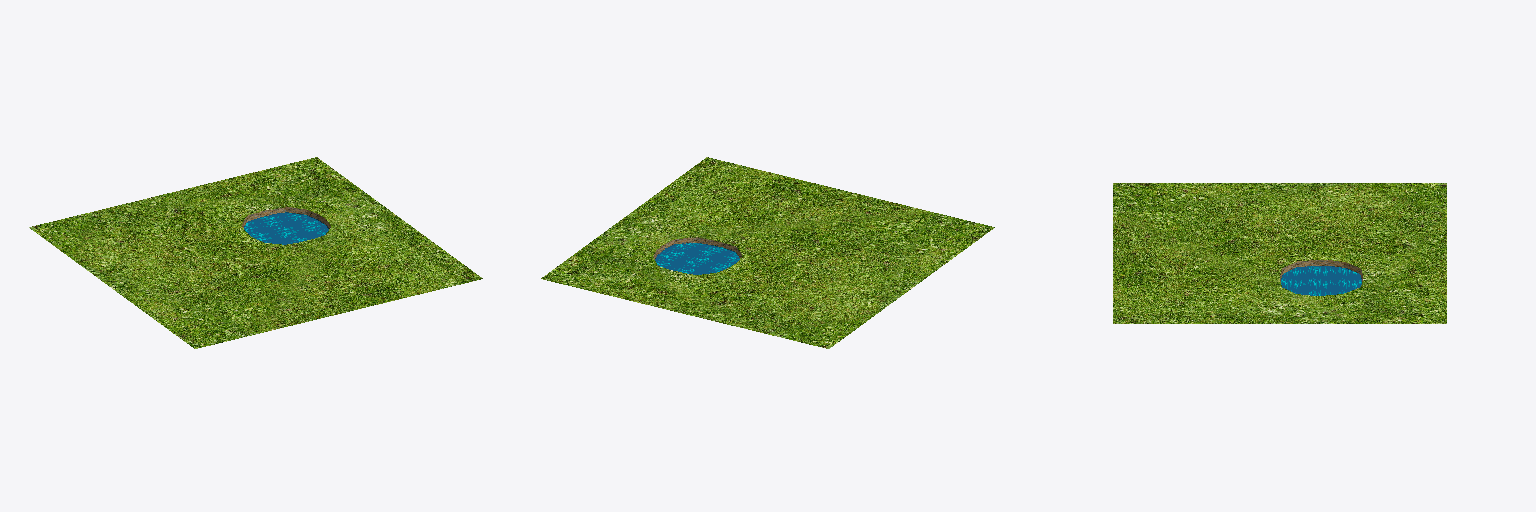
3 views of the same model, side by side, from view 1: azimuth 30°, elevation 25°; view 2: azimuth 150°, elevation 25°; view 3: azimuth 270°, elevation 25° (orthographic).
Parts seen in each view (by area): view 1: mesh01; view 2: mesh01; view 3: mesh01.
Part boxes in pixels (x1,y1,x2,y2): mesh01: (29,157,482,348); mesh01: (541,157,994,348); mesh01: (1113,183,1446,323).
Bounding box in the file's own units: 15992 × 302 × 15992.
1 materials, 1 textured.